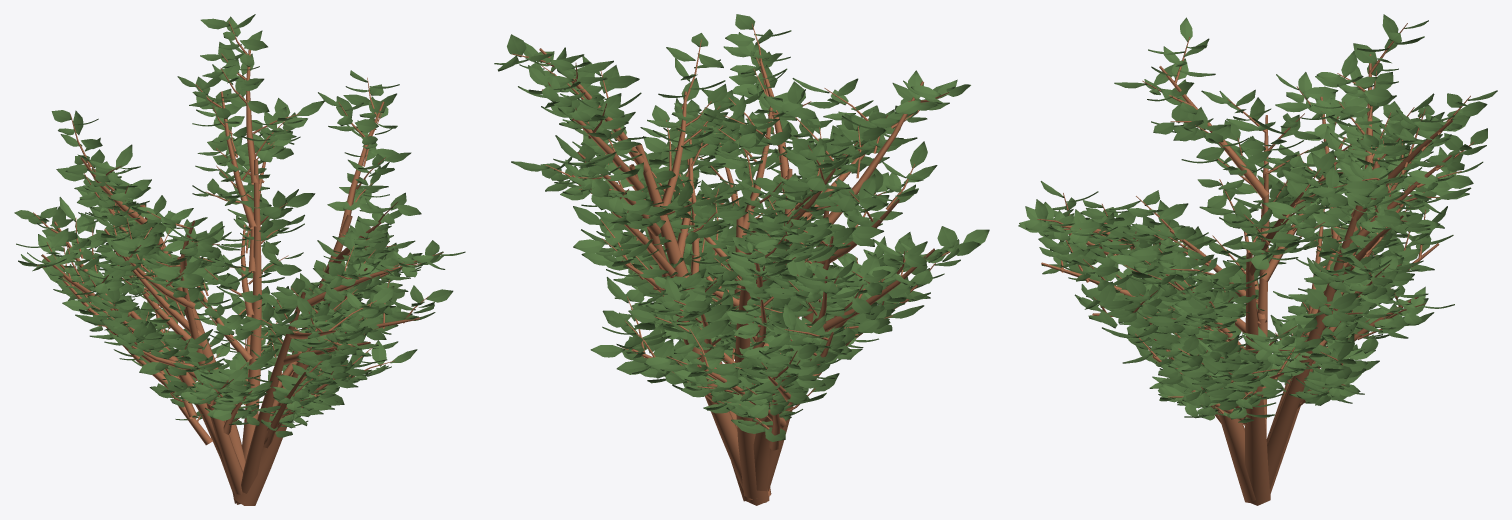
Rendered from Arbousier_2_High.fbx.
The picture shows the model from 3 angles, left to right: view 1: azimuth 30°, elevation 25°; view 2: azimuth 150°, elevation 25°; view 3: azimuth 270°, elevation 25°; orthographic projection. The views are drawn at different scales.
Parts seen in each view (by area): view 1: Arbousier_2_High; view 2: Arbousier_2_High; view 3: Arbousier_2_High.
Boxes of the visible parts, x1=… form: Arbousier_2_High: x1=14, y1=14, x2=465, y2=505; Arbousier_2_High: x1=494, y1=14, x2=989, y2=505; Arbousier_2_High: x1=1018, y1=14, x2=1497, y2=505.
Bounding box in the file's own units: 298 × 297 × 284.
